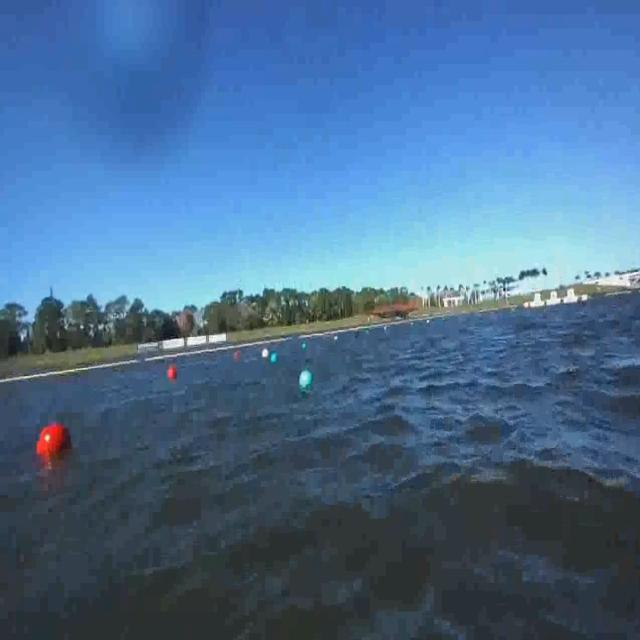green-buoy: (300, 370, 314, 390), (271, 352, 279, 365)
red-buoy: (40, 425, 73, 458), (168, 365, 178, 379)
